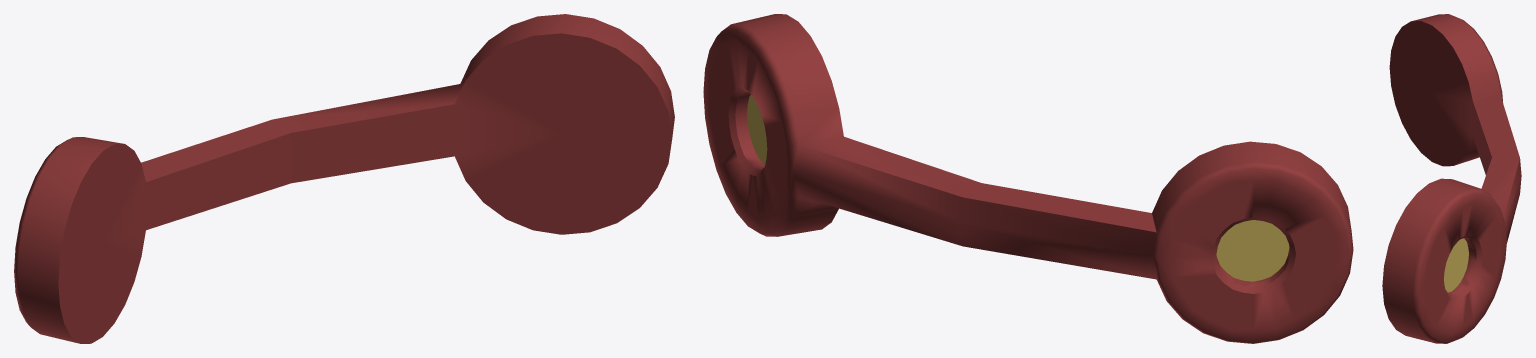
The model's file is goggles_01_mesh.fbx.
3 renders of one model, left to right at view 1: azimuth 30°, elevation 25°; view 2: azimuth 150°, elevation 25°; view 3: azimuth 270°, elevation 25°, orthographic. The views are drawn at different scales.
Visible parts, largest first — view 1: Goggles_01_mesh; view 2: Goggles_01_mesh; view 3: Goggles_01_mesh.
Part boxes in pixels (left/top/right/bottom): Goggles_01_mesh: left=14, top=14, right=674, bottom=343; Goggles_01_mesh: left=703, top=14, right=1353, bottom=343; Goggles_01_mesh: left=1382, top=14, right=1521, bottom=343.
Bounding box in the file's own units: 21.4 × 6.3 × 5.37.
